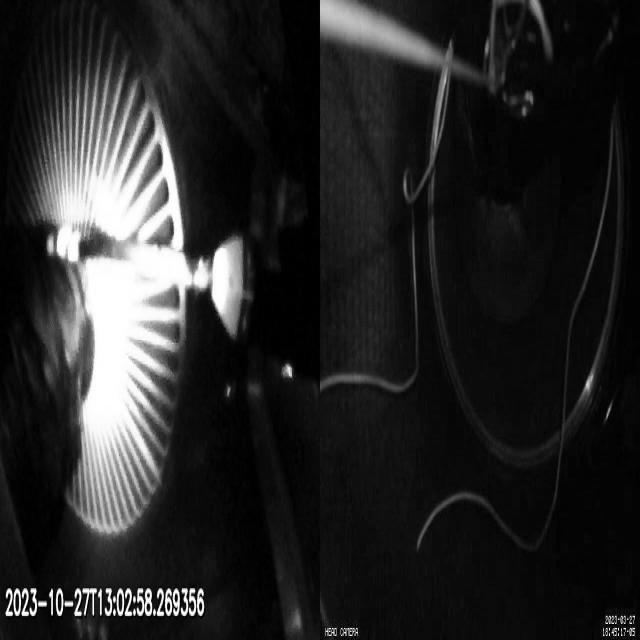head: (212, 238, 288, 338)
white-dots: (47, 224, 79, 261)
